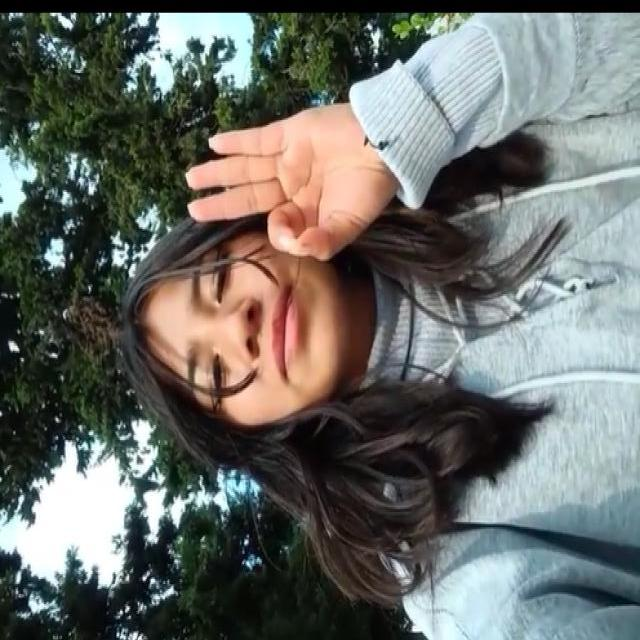F: (174, 94, 396, 270)
